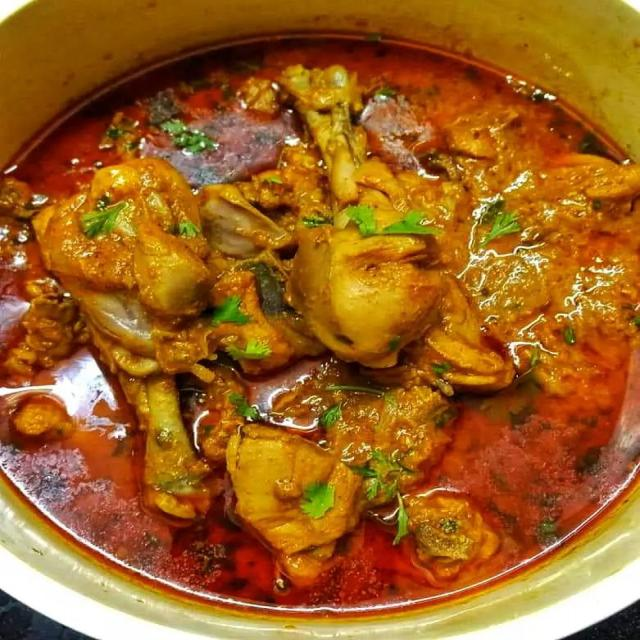chicken: (14, 66, 617, 588)
